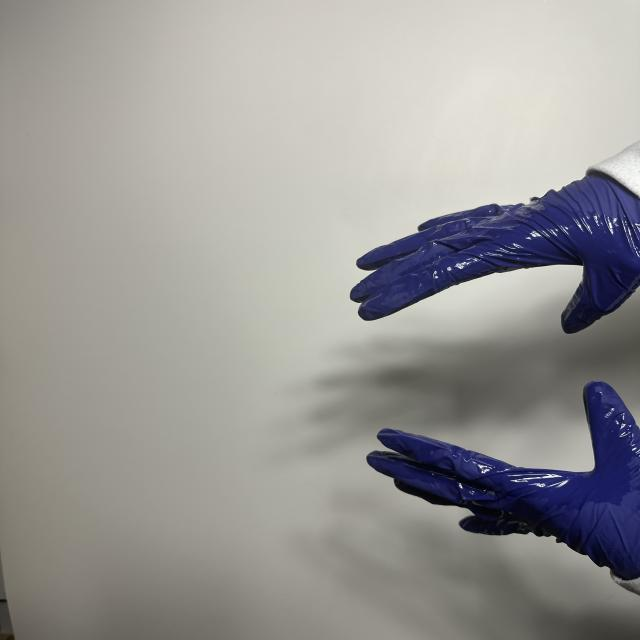gloves_contaminated: (368, 382, 640, 592), (350, 172, 640, 334)
